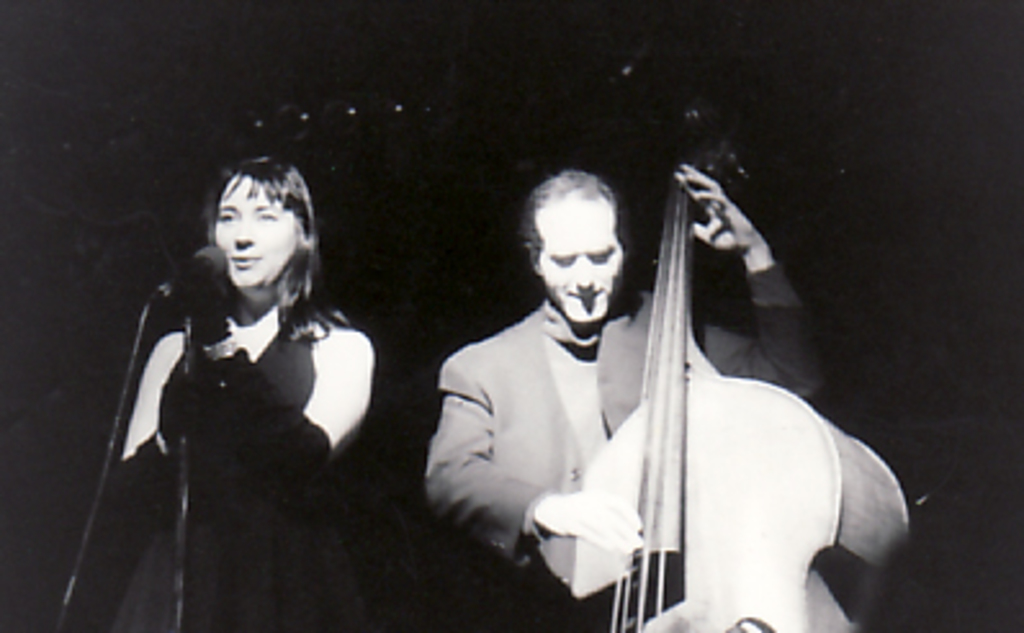Person: (422, 163, 828, 632)
